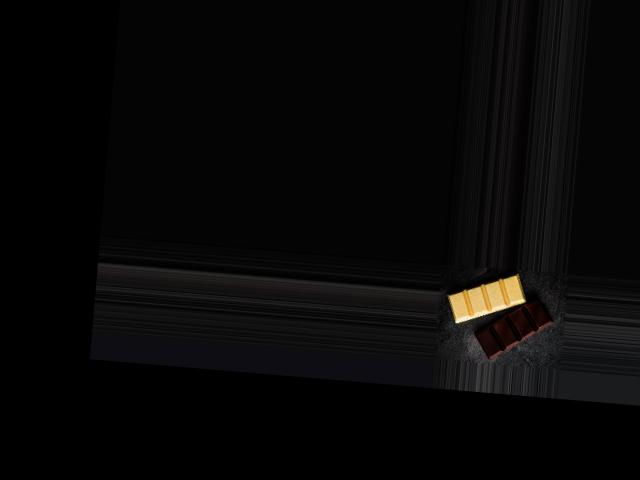chocolate: (438, 268, 556, 362)
